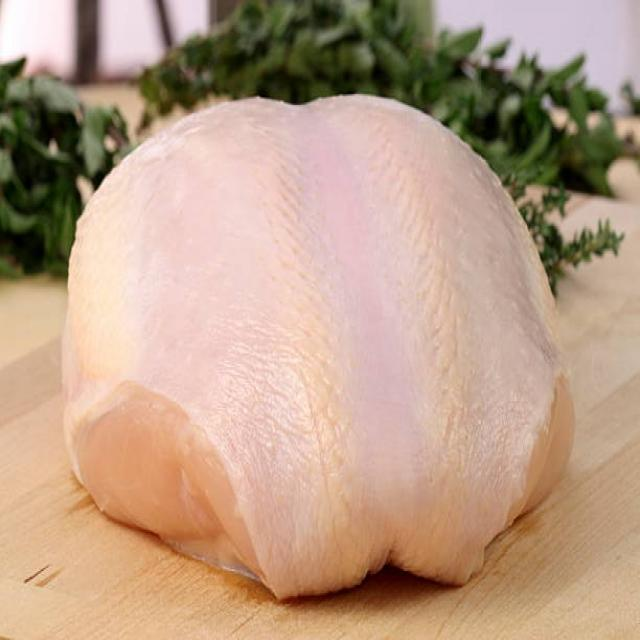chicken breast: (64, 88, 586, 584)
